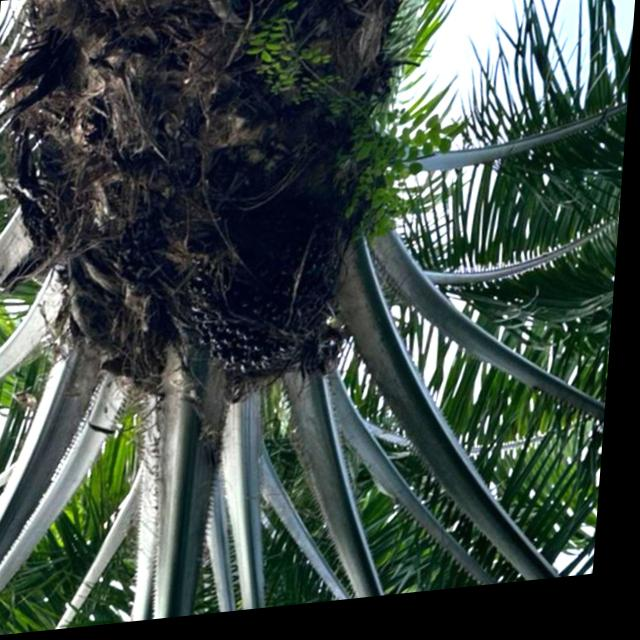almost: (179, 208, 354, 399)
